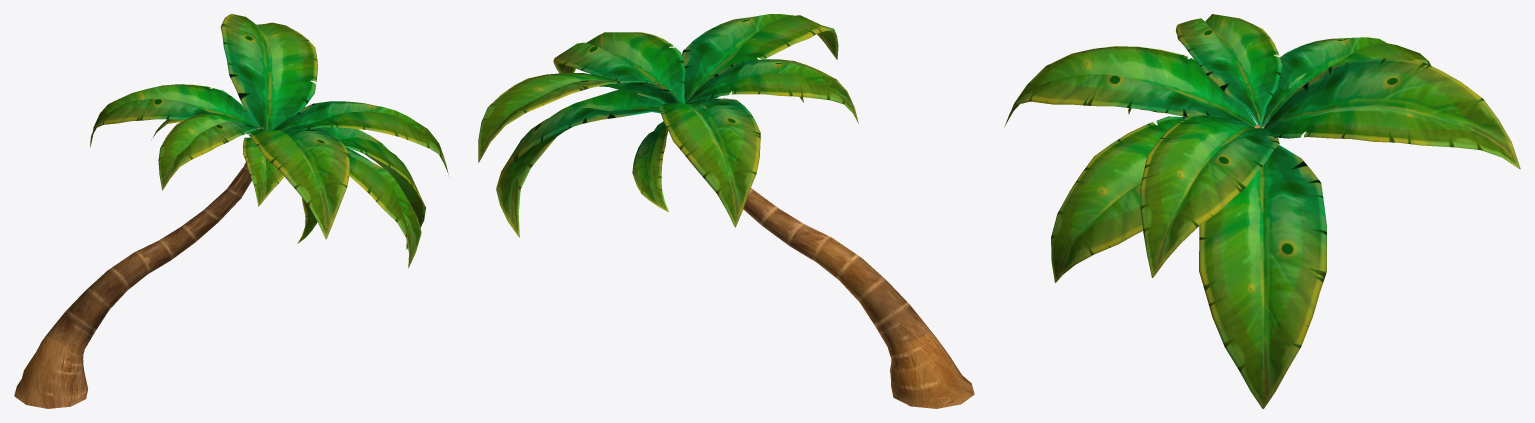
Rendered from Palm_002.fbx.
3 renders of one model, left to right at view 1: azimuth 30°, elevation 25°; view 2: azimuth 150°, elevation 25°; view 3: azimuth 270°, elevation 25°, orthographic. The views are drawn at different scales.
Parts seen in each view (by area): view 1: Palm_002_LOD0; view 2: Palm_002_LOD0; view 3: Palm_002_LOD0.
Part boxes in pixels (x1,y1,x2,y2): Palm_002_LOD0: (14,14,449,408); Palm_002_LOD0: (478,14,974,408); Palm_002_LOD0: (1004,14,1520,408).
Size of what is drawn, in the model's own units: 631 by 391 by 546.
